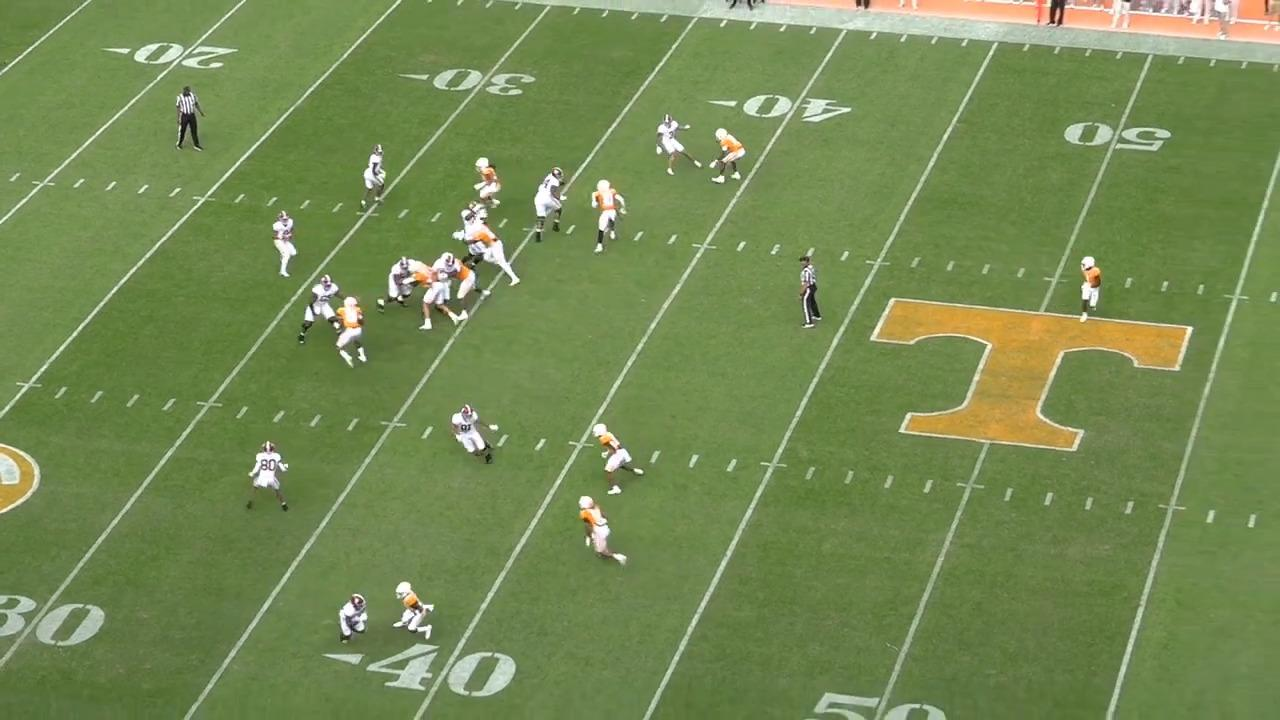player: (579, 490, 634, 570), (596, 422, 652, 500), (240, 439, 290, 518), (464, 218, 519, 286), (292, 272, 339, 347), (651, 112, 703, 178), (411, 260, 460, 330), (443, 253, 492, 320), (450, 404, 499, 470), (586, 175, 626, 254), (530, 166, 569, 246), (393, 579, 440, 643), (330, 292, 367, 366), (371, 255, 417, 313), (458, 205, 497, 267), (265, 208, 298, 279), (359, 139, 392, 209), (709, 124, 745, 185), (338, 592, 375, 649), (1076, 255, 1103, 326), (470, 156, 502, 215), (433, 254, 458, 299)
ref: (793, 253, 821, 335), (178, 86, 209, 157)
